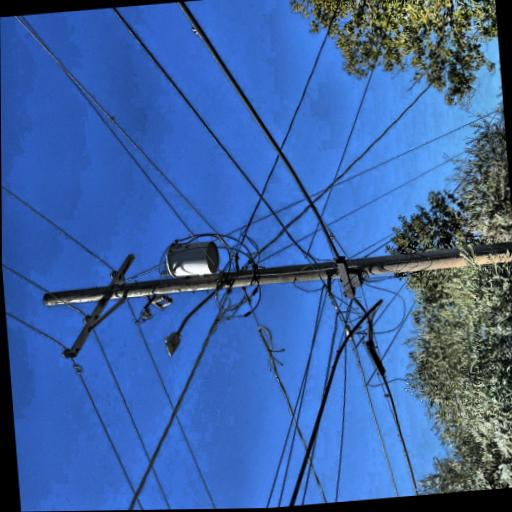pole: (66, 172, 134, 511)
street light: (27, 306, 98, 396)
transformer: (95, 312, 134, 377)
